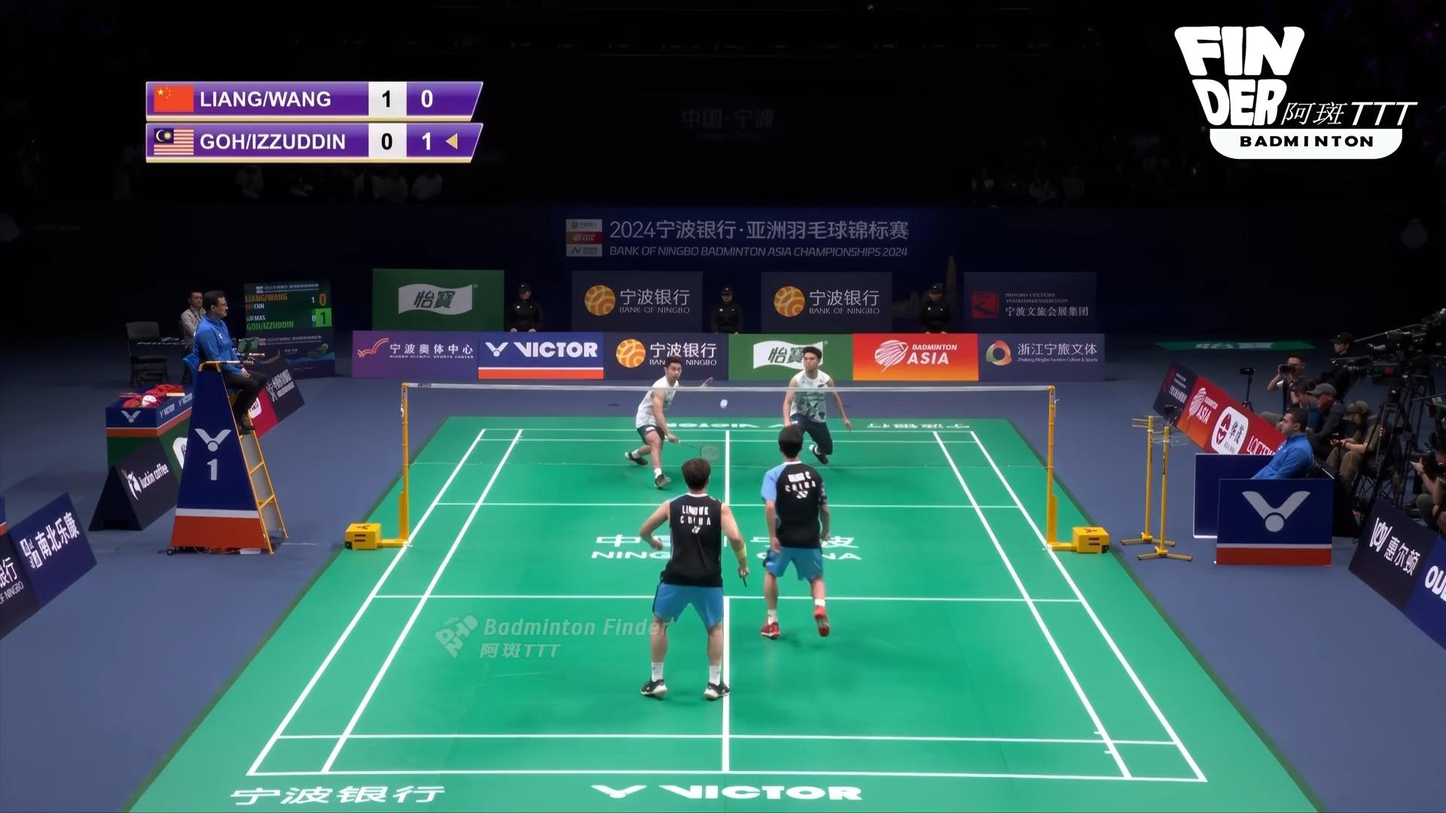player: (637, 456, 749, 701), (759, 425, 833, 641), (624, 355, 714, 489), (782, 346, 852, 468)
